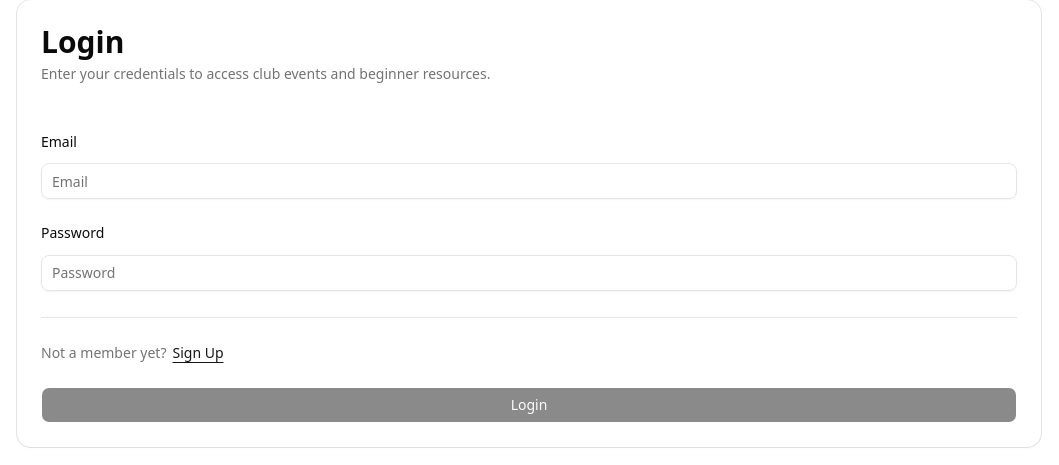
Test: LoginForm › disables the submit button until the form is valid
The image size is (1059, 465).
Expected: the button "Login" is disabled, x1=41 y1=386 x2=1017 y2=422
Type "user@example.com" into the field with placeholder "Email" at [529, 181], box x1=41 y1=163 x2=1017 y2=199
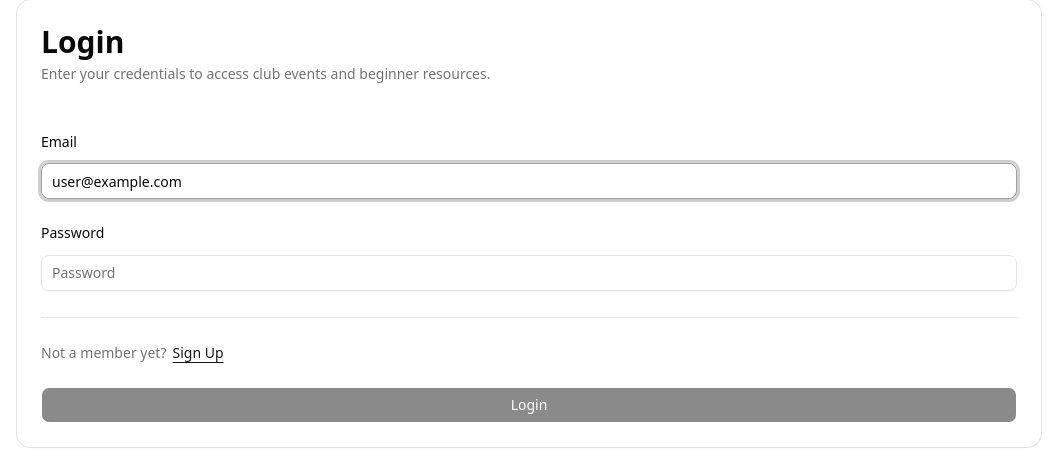
Type "password123" into the password field with placeholder "Password" at [529, 272], box x1=41 y1=254 x2=1017 y2=290
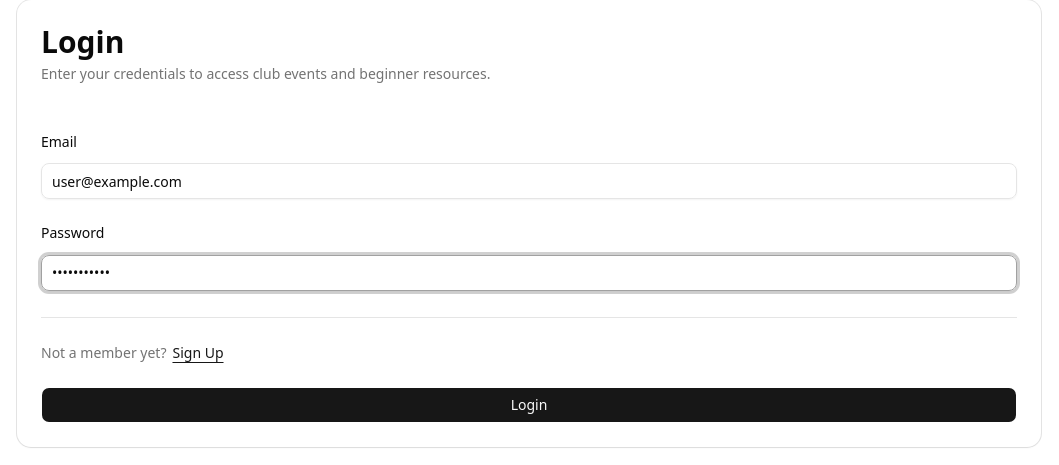
Expected: the button "Login" is enabled, x1=41 y1=386 x2=1017 y2=422
